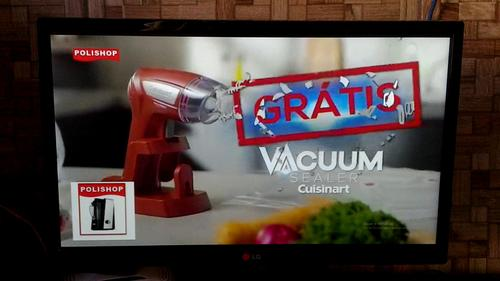Polishop #1: (71, 182, 135, 240)
